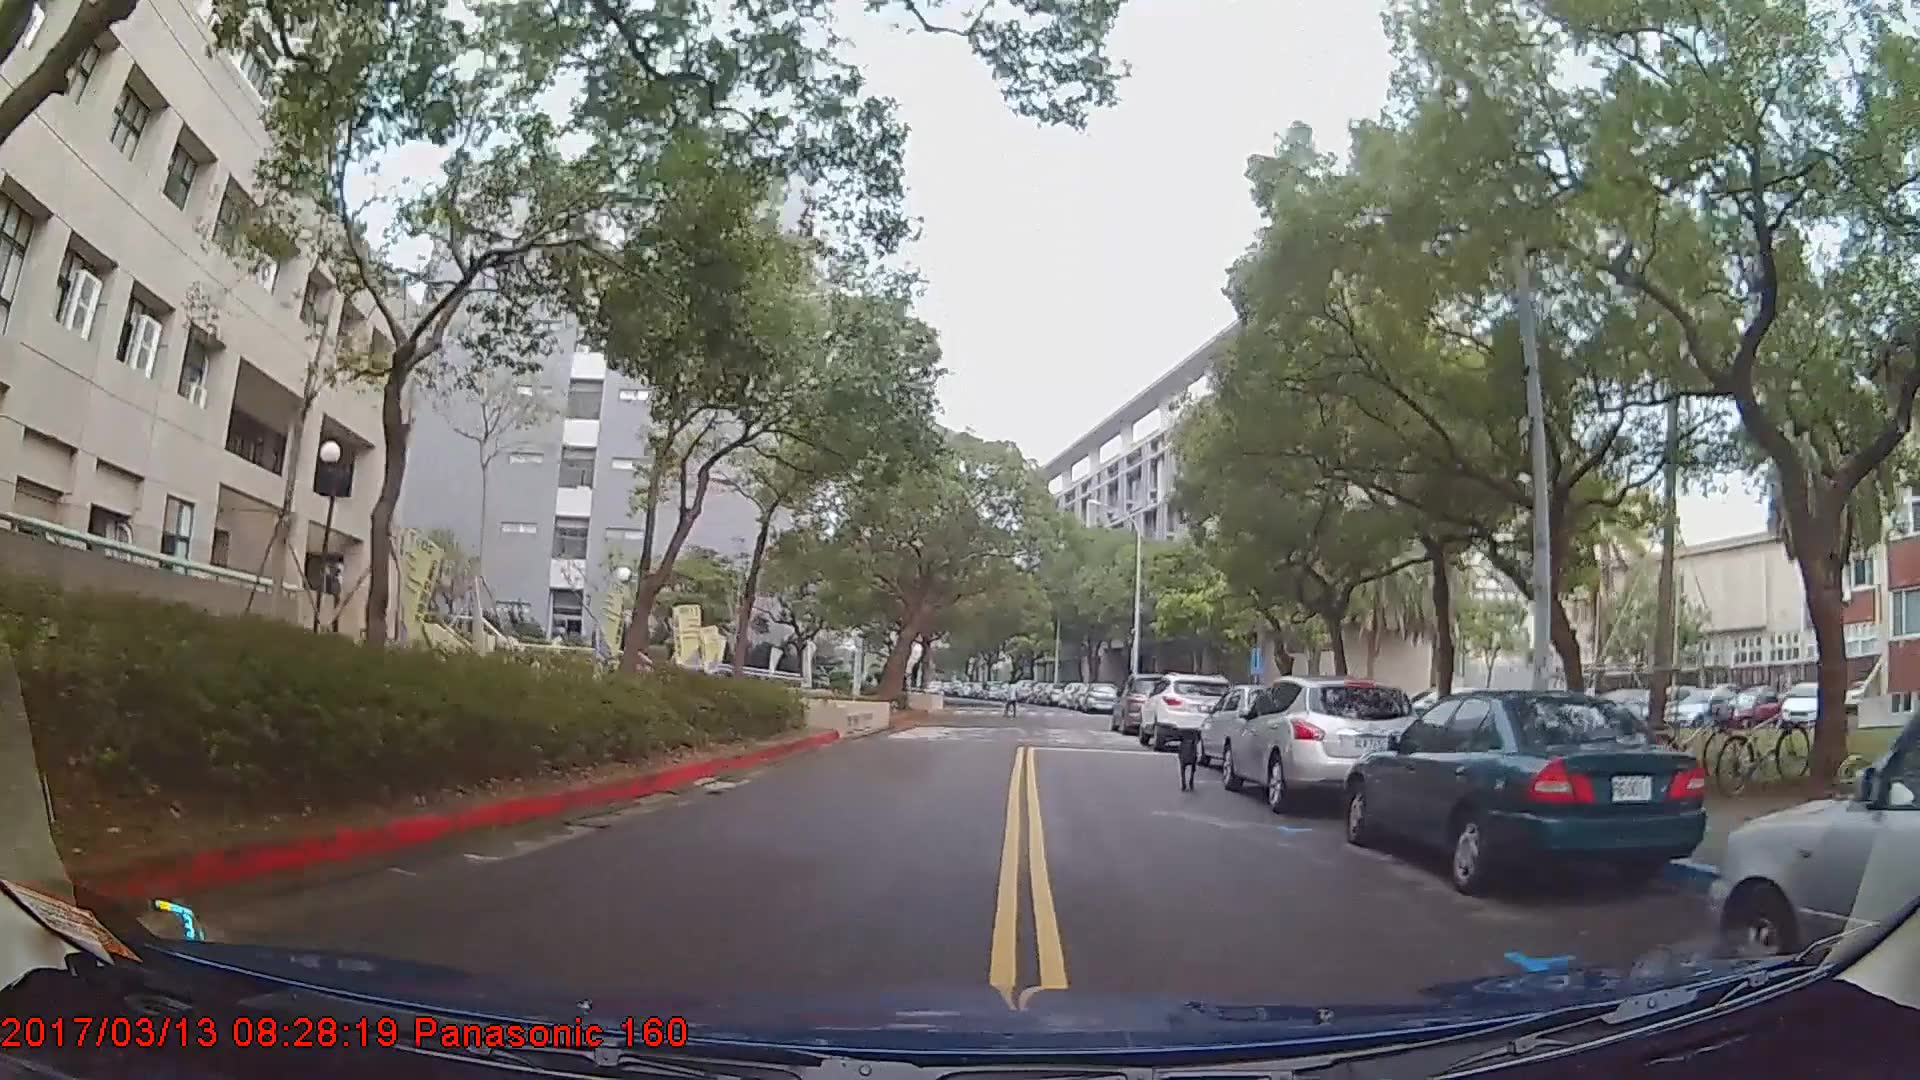pedestrian: (1002, 680, 1022, 720)
vehicle: (1343, 687, 1710, 897), (1706, 702, 1920, 991), (1219, 672, 1420, 810), (1140, 672, 1238, 750), (1112, 674, 1185, 737), (1081, 679, 1120, 712)
